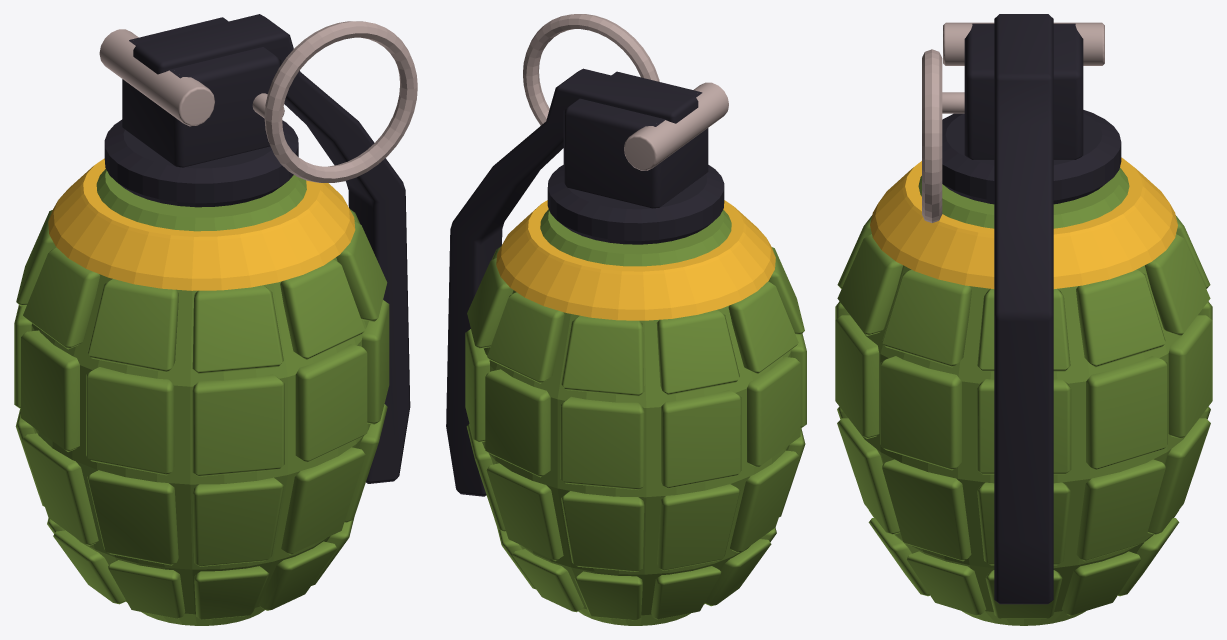
File: thr.frag-grenade.glb
The picture shows the model from 3 angles, left to right: view 1: azimuth 30°, elevation 25°; view 2: azimuth 150°, elevation 25°; view 3: azimuth 270°, elevation 25°; orthographic projection. The views are drawn at different scales.
Size of the model in its own units: 0.1522 by 0.2382 by 0.1395.
